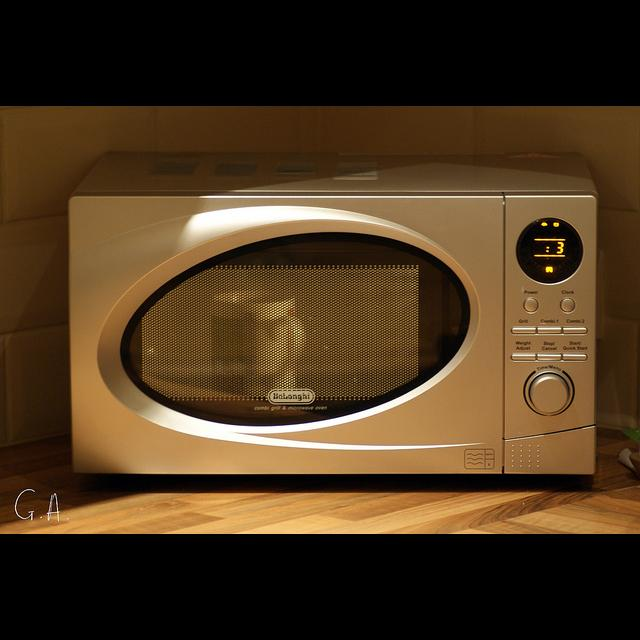Microwave: (67, 150, 596, 477)
